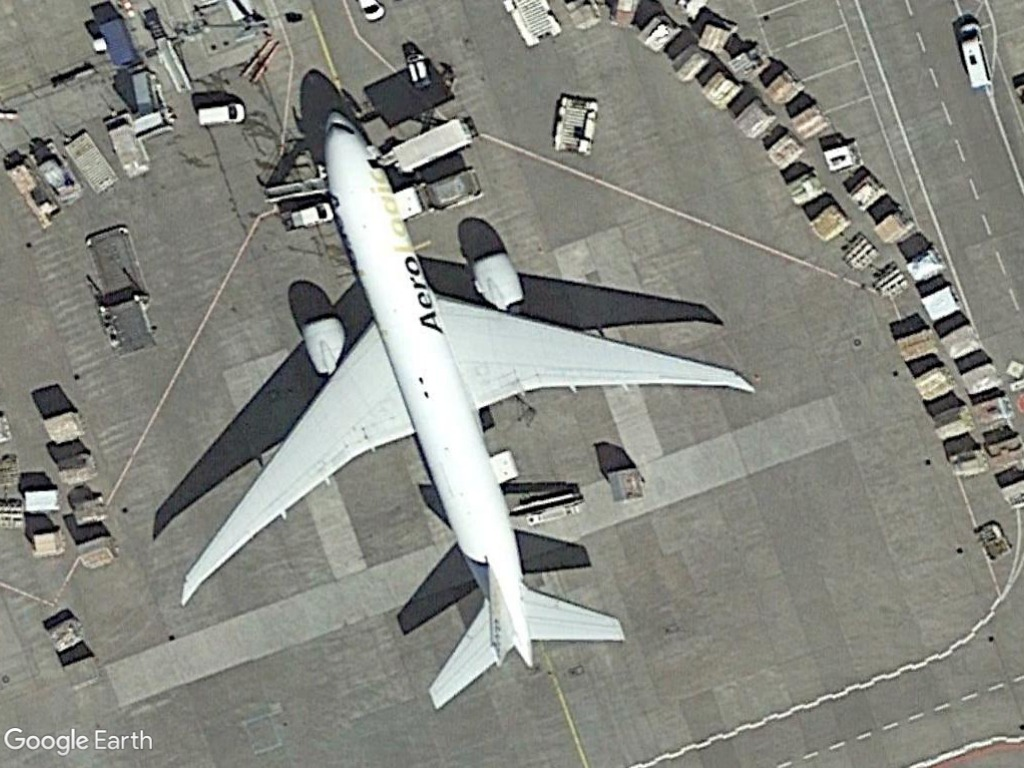airliner: (168, 102, 764, 706)
van: (954, 18, 996, 93), (193, 97, 249, 132)
